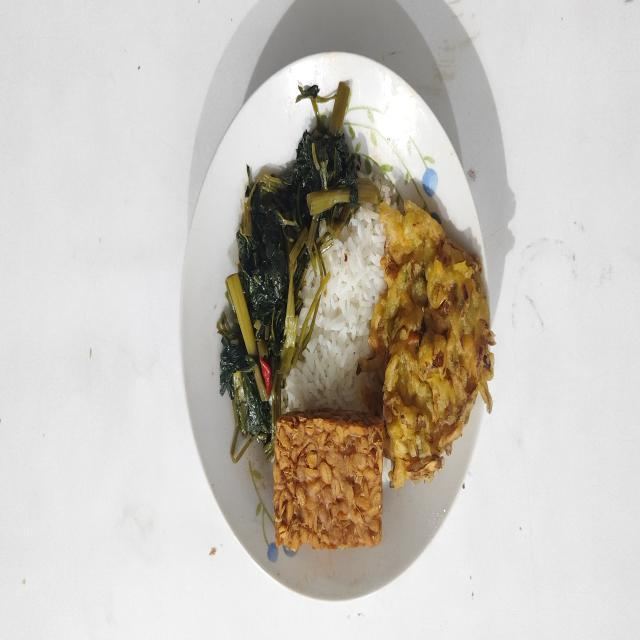nasi_putih: (281, 204, 387, 418)
tempe_goreng: (274, 410, 384, 551)
tumis_kangkung: (218, 82, 380, 462)
